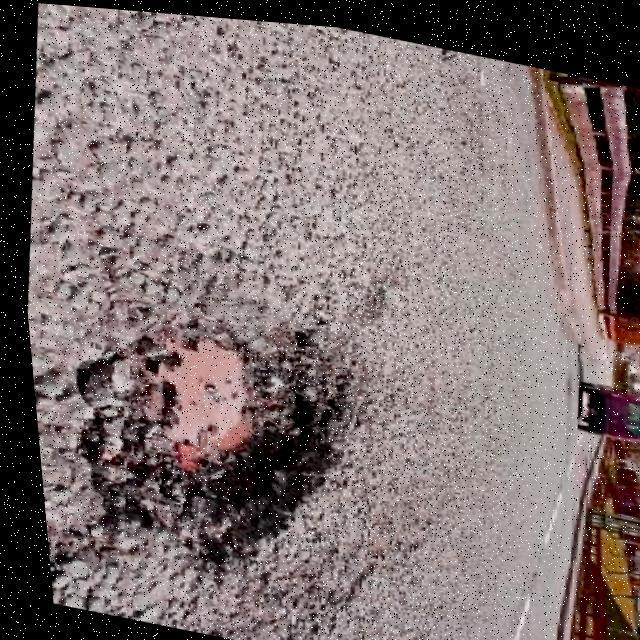pothole: (40, 290, 362, 588)
